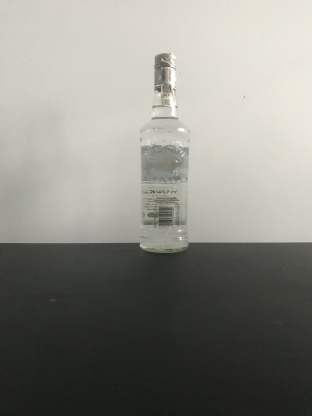nakretka: (152, 50, 177, 92)
